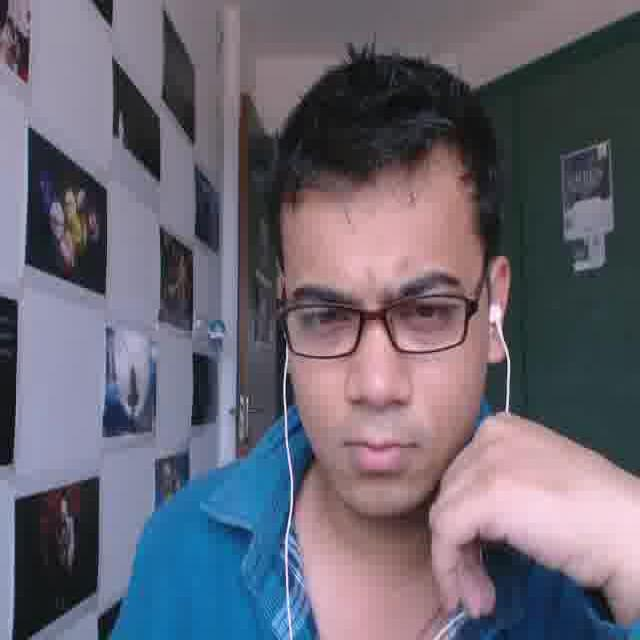Confusion: (278, 176, 485, 524)
